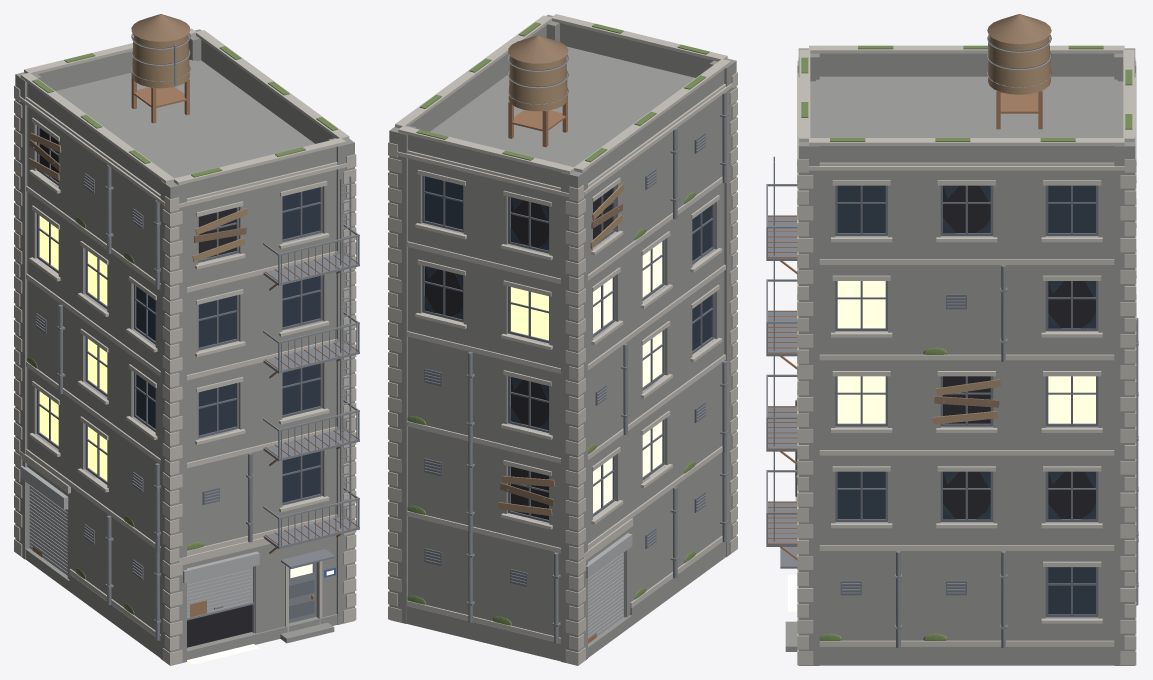
File: building_tall_5f.glb
The picture shows the model from 3 angles, left to right: view 1: azimuth 30°, elevation 25°; view 2: azimuth 150°, elevation 25°; view 3: azimuth 270°, elevation 25°; orthographic projection. The views are drawn at different scales.
Visible parts, largest first — view 1: building_tall_5f; view 2: building_tall_5f; view 3: building_tall_5f.
Part boxes in pixels (x1,y1,x2,y2): building_tall_5f: [14, 14, 359, 665]; building_tall_5f: [388, 14, 737, 665]; building_tall_5f: [766, 14, 1138, 665].
Size of what is drawn, in the model's own units: 6.8 by 18.95 by 10.62.
